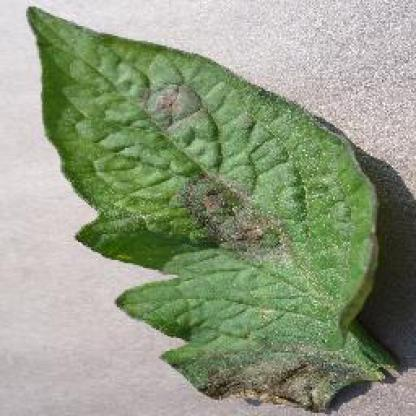bad leaf: (175, 167, 311, 252), (188, 344, 392, 400), (140, 82, 218, 128)
